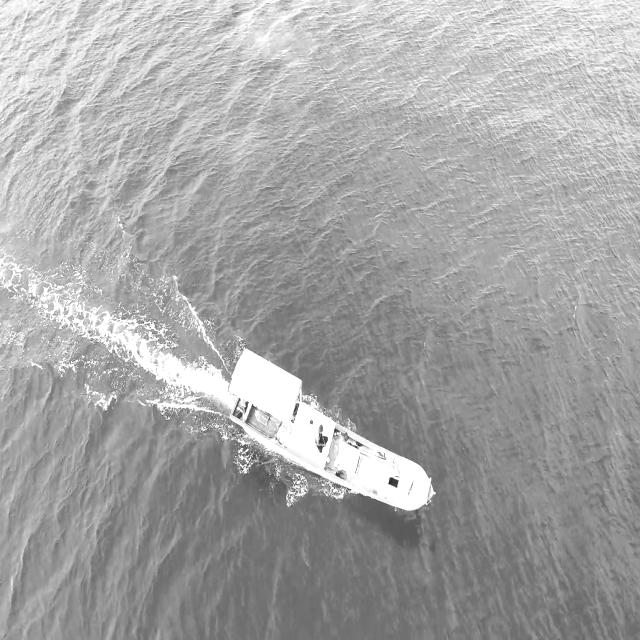ship: (227, 344, 441, 517)
